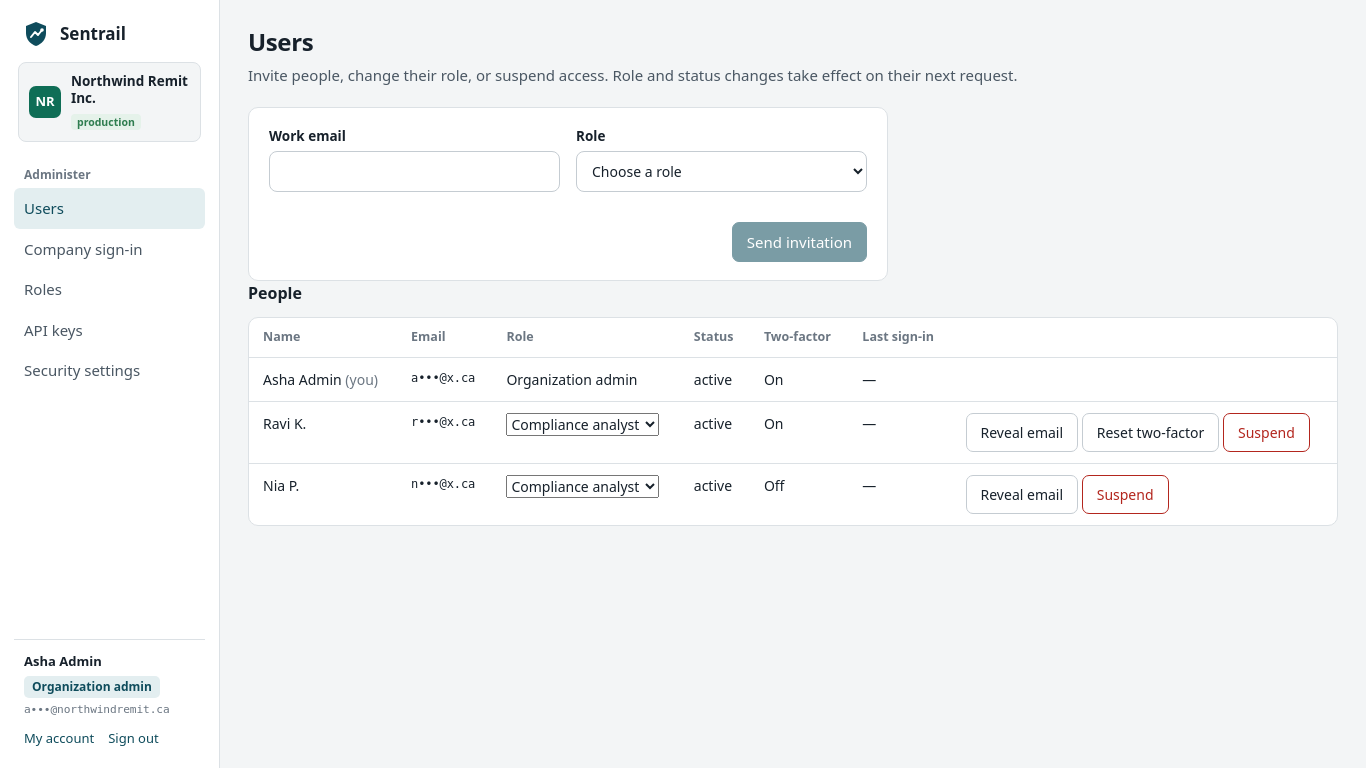
Users: sensitive actions › resets two-factor with a reason, only for people who have it, and shows the API's refusal
Click the button "Reset two-factor".
click(1150, 432)  # box [1082,413,1219,452]
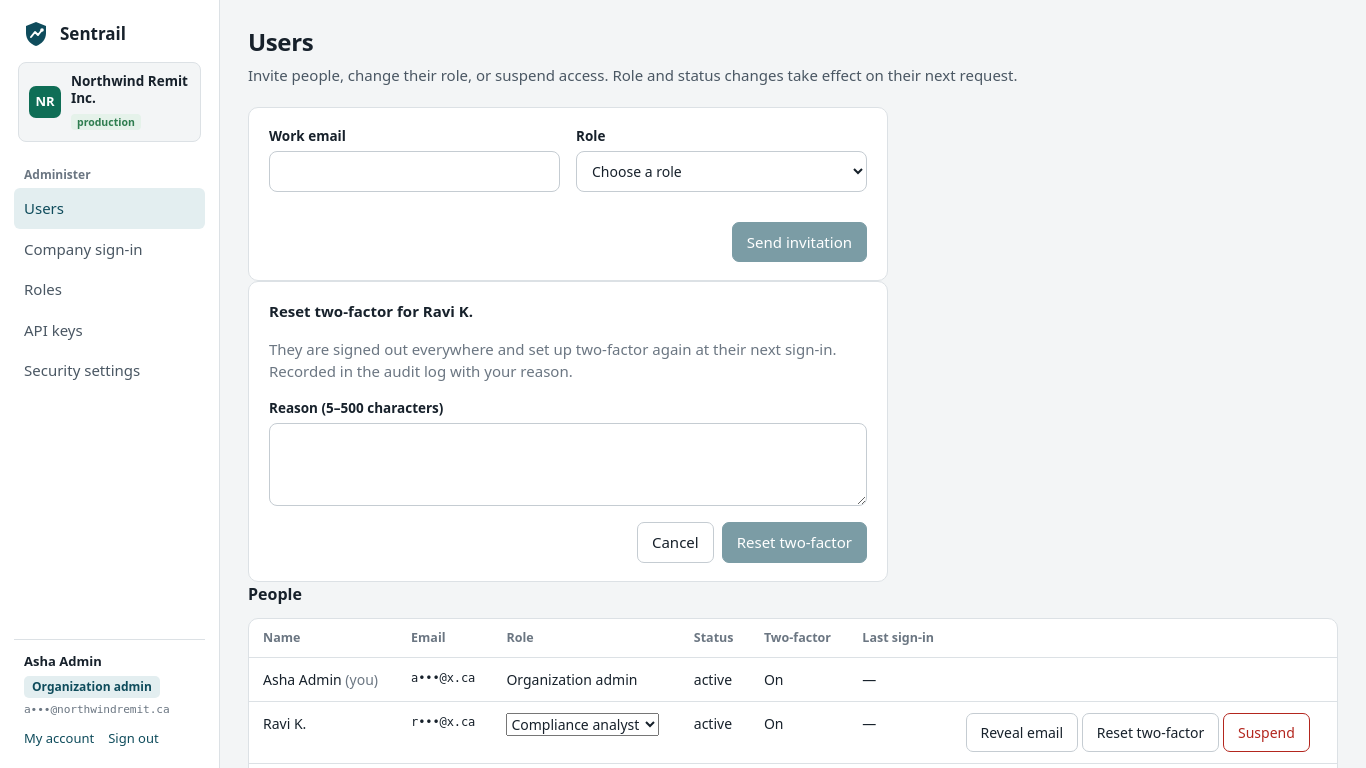
Type "Lost phone, identity verified" into the text box labelled "Reason (5–500 characters)".
click(568, 464); type("Lost phone, identity verified")  # box [269,423,867,506]
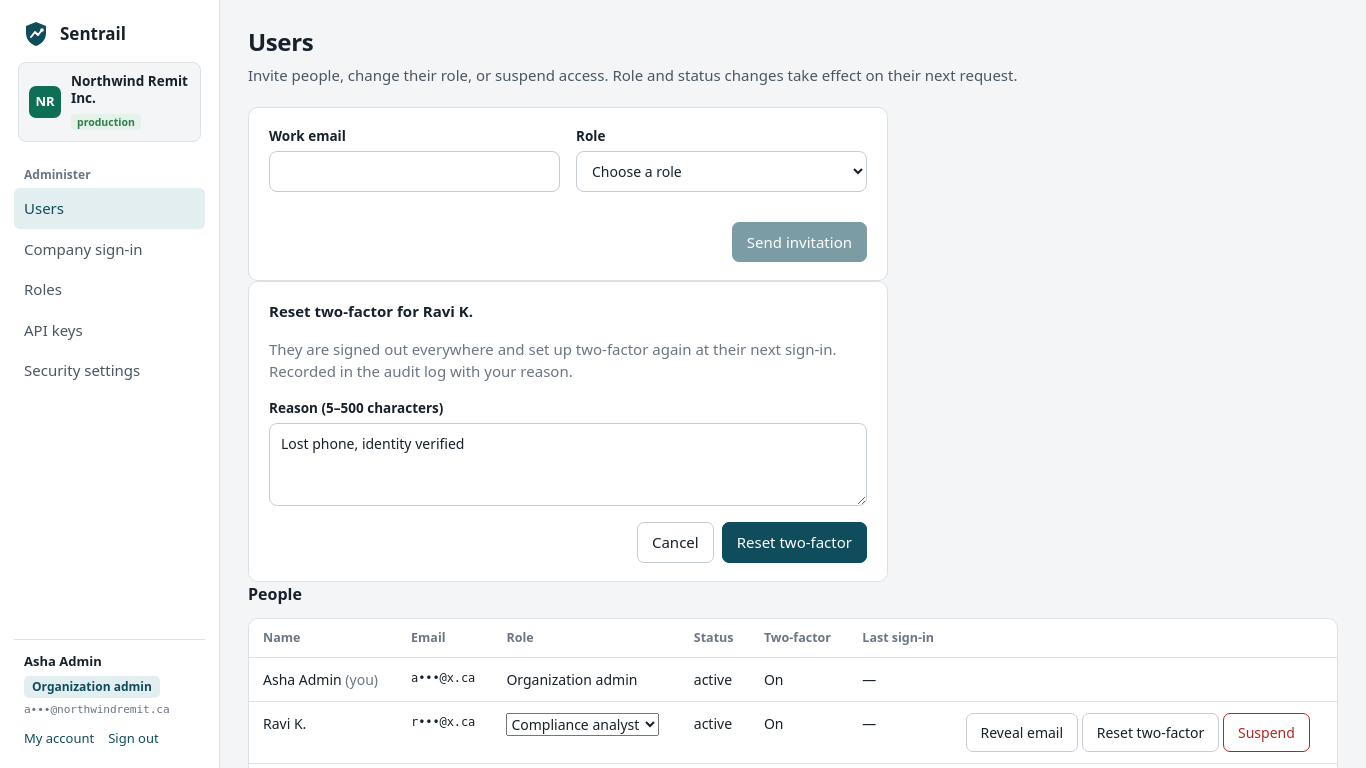
Click the button "Reset two-factor" below "Reset two-factor for Ravi K.".
click(794, 542)  # box [722,522,867,562]
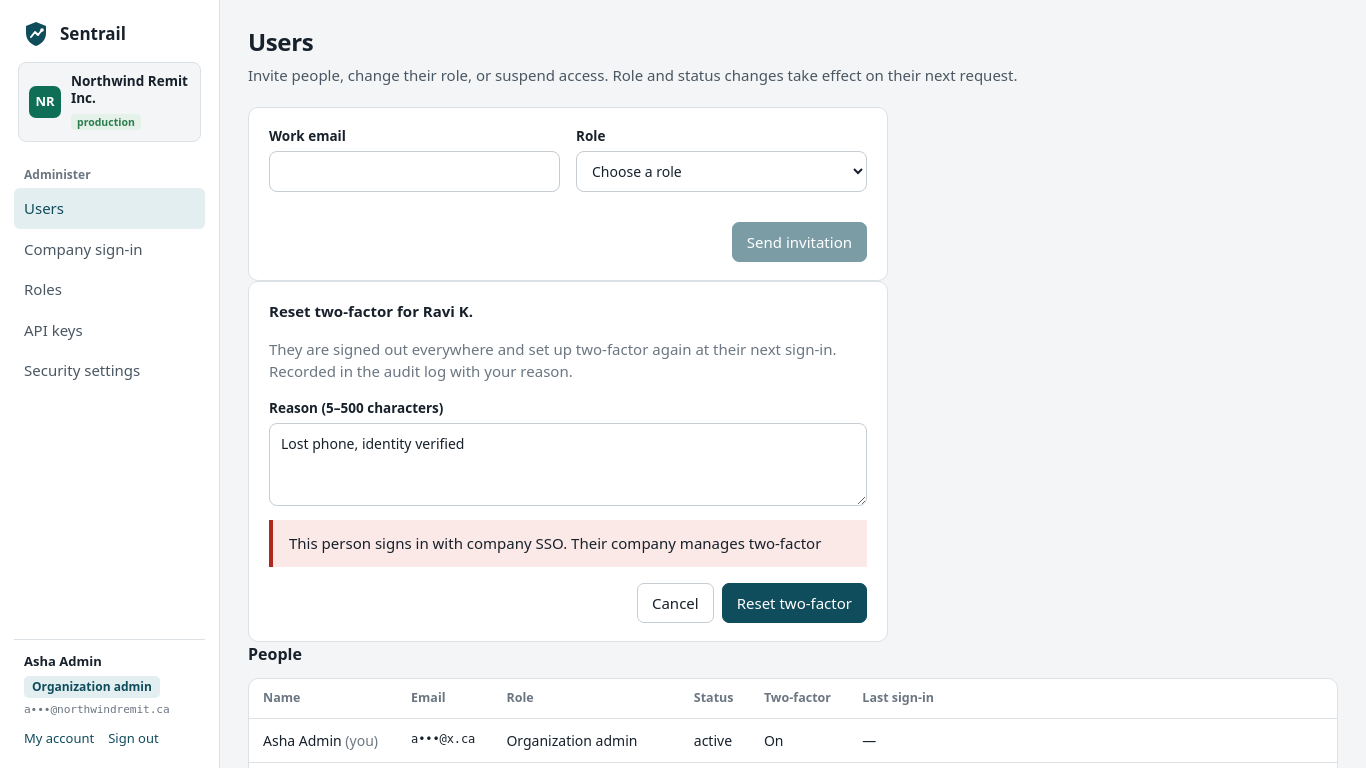
Check: the message shows "company SSO", box [289,533,821,553]
